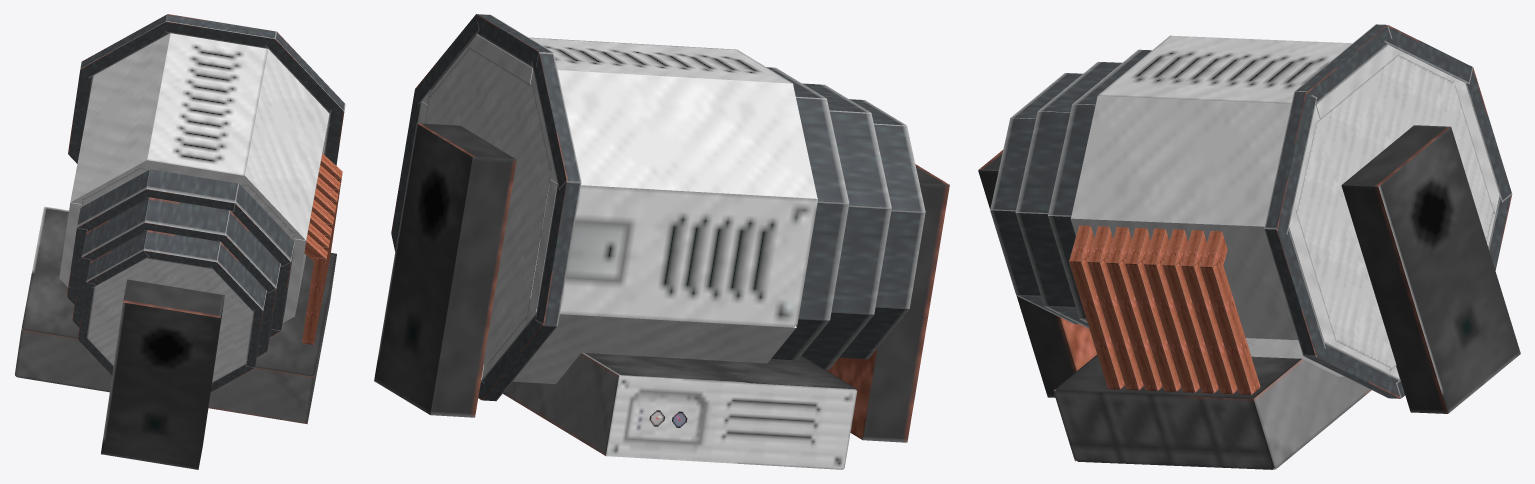
The model's file is inventory.obj.
3 renders of one model, left to right at view 1: azimuth 30°, elevation 25°; view 2: azimuth 150°, elevation 25°; view 3: azimuth 270°, elevation 25°, orthographic. The views are drawn at different scales.
Parts seen in each view (by area): view 1: coupler1, baseplate, turbine_wall_0_4, turbine_wall_0_3, turbine_wall_0_5, front_cutout_wall, step_section_ring_1_0, step_section_ring_2_0, step_section_ring_1_7, step_section_ring_0_0, main_body_ring_0, step_section_ring_2_7 (+21 smaller); view 2: turbine_wall_0_6, baseplate, coupler0, turbine_wall_0_5, back_cutout_wall, turbine_wall_0_7, coupler1, turbine_wall_0_4, step_section_ring_1_2, step_section_ring_1_1, step_section_ring_2_2, main_body_ring_2 (+12 smaller); view 3: coupler0, turbine_wall_0_3, baseplate, back_cutout_wall, turbine_wall_0_4, turbine_wall_0_2, coupler1, step_section_ring_1_7, main_body_ring_7, main_body_ring_6, pipe7_0, step_section_ring_1_6 (+29 smaller).
Boxes of the visible parts, left/top/right/bottom form: coupler1: left=101, top=279, right=224, bottom=469; baseplate: left=15, top=206, right=336, bottom=424; turbine_wall_0_4: left=146, top=33, right=268, bottom=185; turbine_wall_0_3: left=243, top=49, right=329, bottom=240; turbine_wall_0_5: left=70, top=33, right=170, bottom=204; front_cutout_wall: left=87, top=258, right=253, bottom=381; step_section_ring_1_0: left=144, top=197, right=230, bottom=241; step_section_ring_2_0: left=145, top=169, right=238, bottom=211; step_section_ring_1_7: left=218, top=211, right=280, bottom=293; step_section_ring_0_0: left=144, top=230, right=220, bottom=268; main_body_ring_0: left=165, top=14, right=276, bottom=48; step_section_ring_2_7: left=232, top=184, right=294, bottom=266; turbine_wall_0_6: left=529, top=179, right=817, bottom=327; baseplate: left=503, top=299, right=857, bottom=469; coupler0: left=374, top=123, right=516, bottom=417; turbine_wall_0_5: left=530, top=69, right=817, bottom=198; back_cutout_wall: left=425, top=48, right=551, bottom=367; turbine_wall_0_7: left=482, top=303, right=796, bottom=384; coupler1: left=825, top=164, right=949, bottom=442; turbine_wall_0_4: left=474, top=34, right=793, bottom=84; step_section_ring_1_2: left=831, top=205, right=891, bottom=314; step_section_ring_1_1: left=829, top=110, right=891, bottom=207; step_section_ring_2_2: left=798, top=201, right=849, bottom=320; main_body_ring_2: left=535, top=181, right=581, bottom=325; coupler0: left=1341, top=125, right=1520, bottom=413; turbine_wall_0_3: left=1071, top=96, right=1319, bottom=227; baseplate: left=1053, top=355, right=1371, bottom=469; back_cutout_wall: left=1296, top=54, right=1494, bottom=370; turbine_wall_0_4: left=1097, top=35, right=1392, bottom=118; turbine_wall_0_2: left=1070, top=218, right=1333, bottom=340; coupler1: left=978, top=150, right=1097, bottom=397; step_section_ring_1_7: left=1015, top=111, right=1070, bottom=214; main_body_ring_7: left=1264, top=91, right=1317, bottom=234; main_body_ring_6: left=1264, top=228, right=1325, bottom=356; pipe7_0: left=1200, top=260, right=1260, bottom=394; step_section_ring_1_6: left=1015, top=213, right=1075, bottom=307.
Size of the model in its own units: 0.7155 by 0.6983 by 0.7878.
